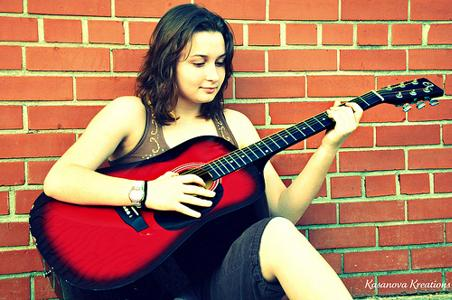person: (43, 5, 364, 300)
